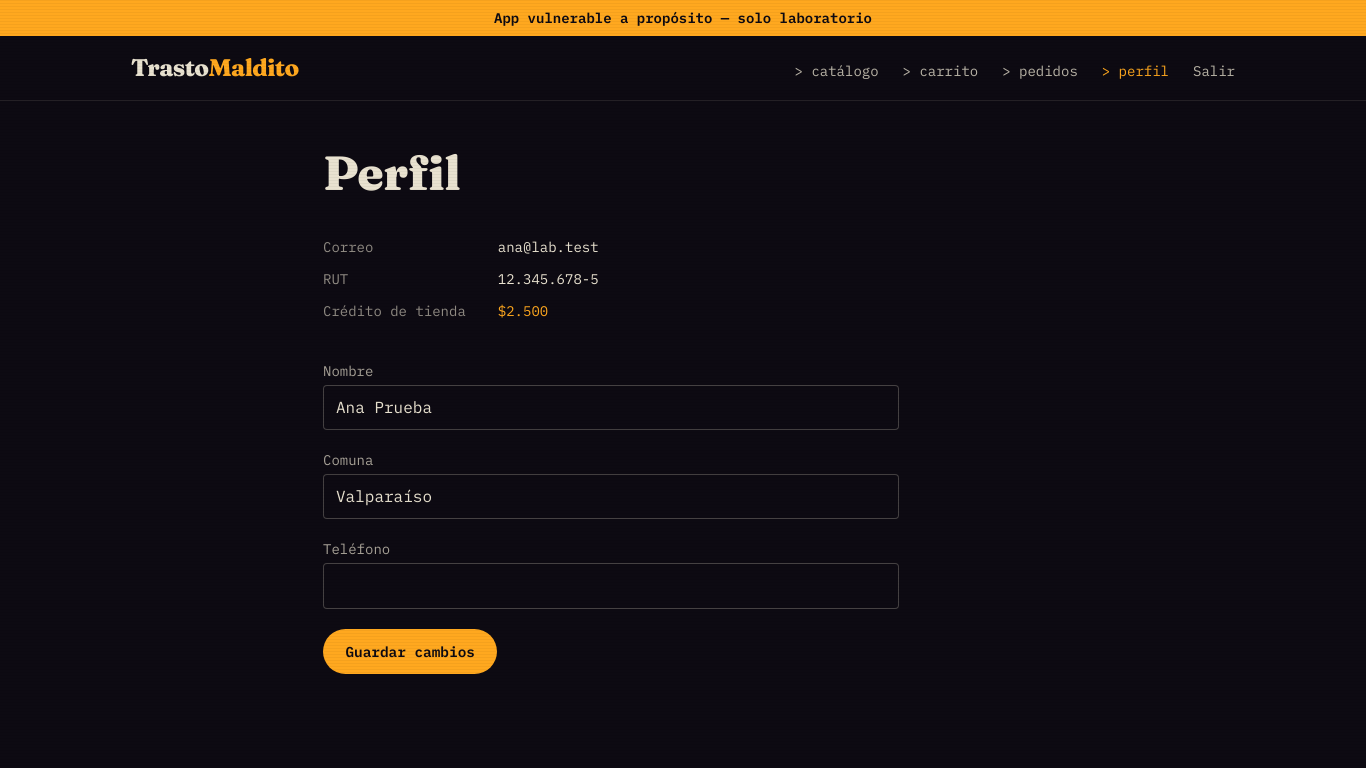
perfil (F2) › un error al guardar se muestra en un alert
Expected: the field showing "Ana Prueba" is shown, 323,385 -> 899,430
What coordinates should you click on to do the following:
click the button "Guardar cambios"
I would click on:
 (410, 651)
Its box is 323,629 -> 497,674.
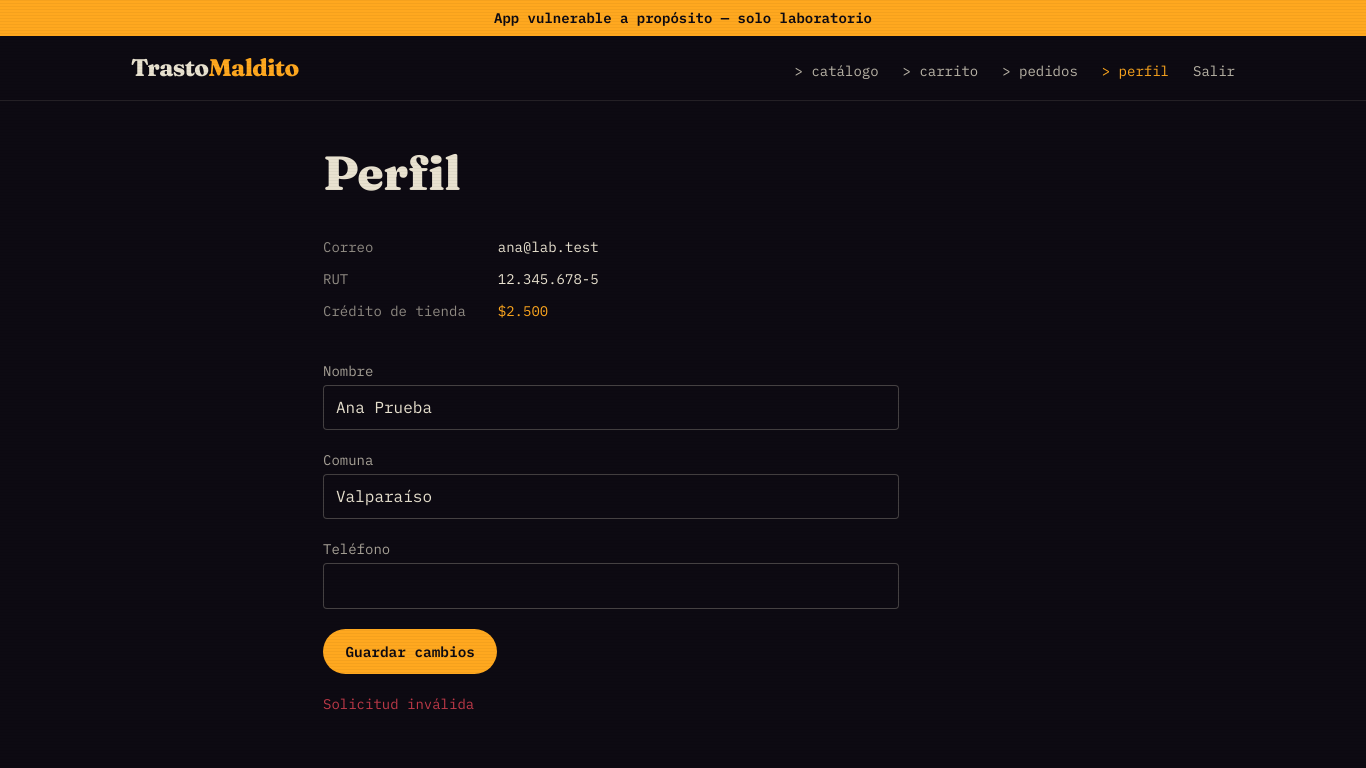
Now the message reads "Solicitud inválida", box 323,695 -> 474,713
